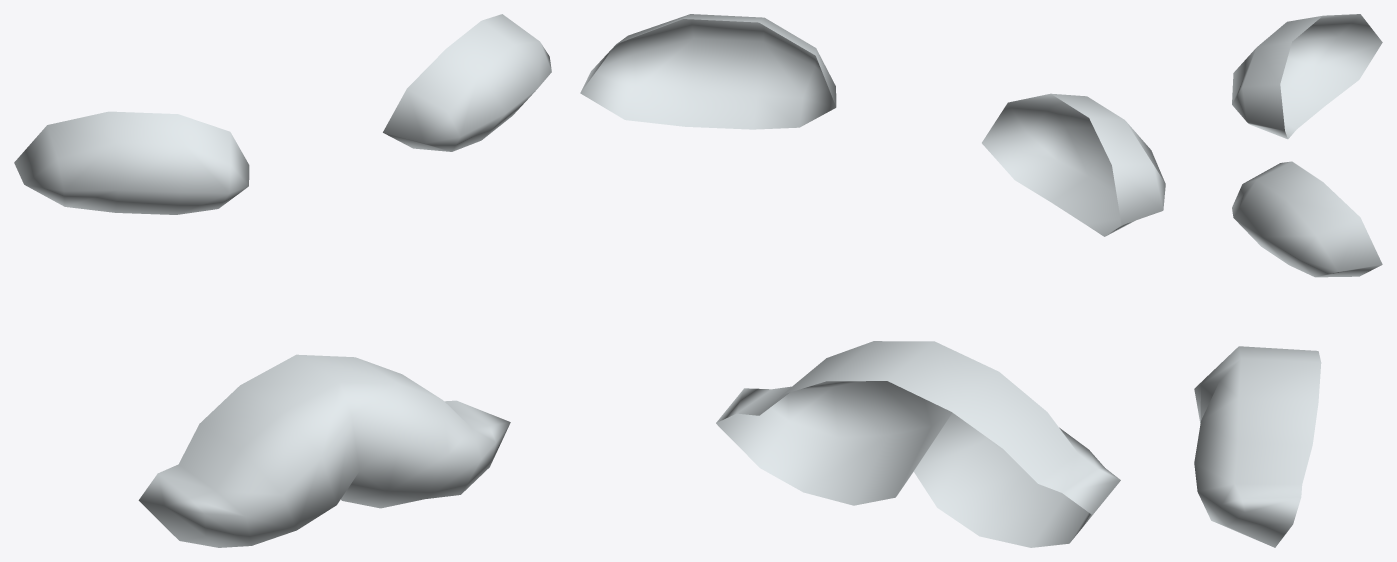
File: Eyewear_20.fbx
3 views of the same model, side by side, from view 1: azimuth 30°, elevation 25°; view 2: azimuth 150°, elevation 25°; view 3: azimuth 270°, elevation 25° (orthographic). The views are drawn at different scales.
Visible parts, largest first — view 1: Eyewear_20; view 2: Eyewear_20; view 3: Eyewear_20.
Part boxes in pixels (left/top/right/bottom): Eyewear_20: left=14, top=14, right=551, bottom=547; Eyewear_20: left=580, top=14, right=1165, bottom=547; Eyewear_20: left=1194, top=14, right=1382, bottom=547.
Size of the model in its own units: 50.94 by 40.39 by 17.28.
